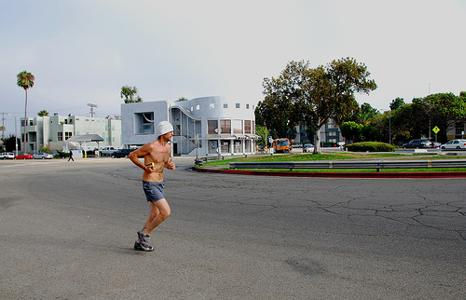person: (129, 121, 177, 252)
